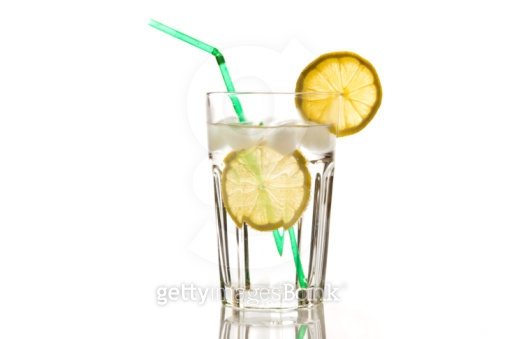glass of water: (204, 90, 337, 306)
